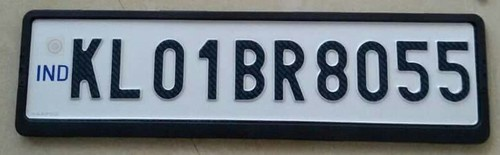plate: (16, 8, 495, 134)
